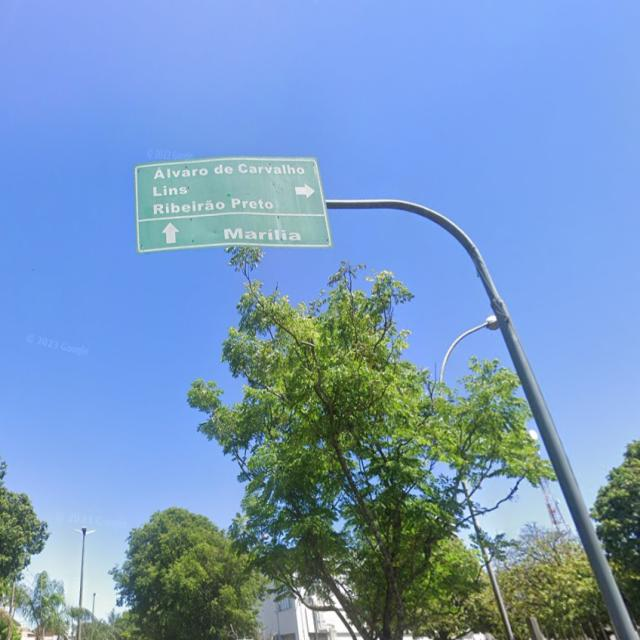indication: (112, 107, 362, 305)
